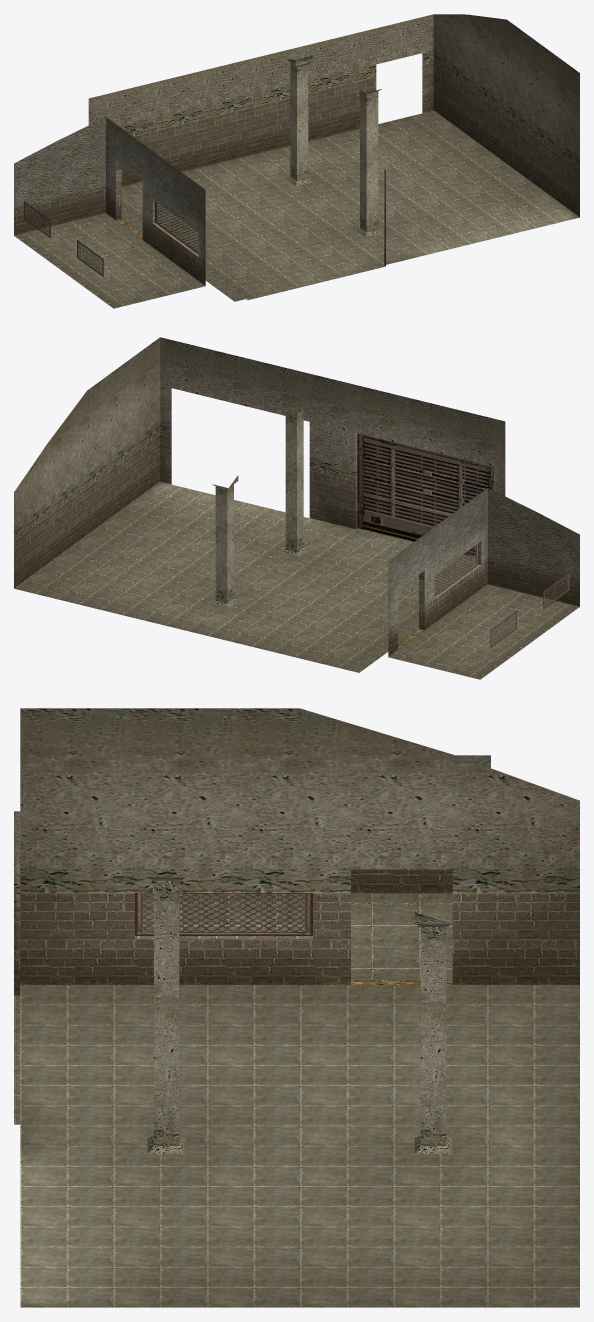
Rendered from Mission8_GarageInt.glb.
3 renders of one model, top to bottom at view 1: azimuth 30°, elevation 25°; view 2: azimuth 150°, elevation 25°; view 3: azimuth 270°, elevation 25°, orthographic. The views are drawn at different scales.
Parts seen in each view (by area): view 1: MISSION8_GARAGEINT; view 2: MISSION8_GARAGEINT; view 3: MISSION8_GARAGEINT.
Boxes of the visible parts, box(x1,y1,x2,y2) form: MISSION8_GARAGEINT: box(14, 14, 579, 308); MISSION8_GARAGEINT: box(14, 337, 579, 679); MISSION8_GARAGEINT: box(14, 708, 579, 1307).
Size of the model in its own units: 19.25 by 6 by 11.13.
Materials: 10 (10 with a texture image).
